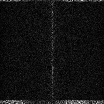wifi: (1, 99, 104, 104)
